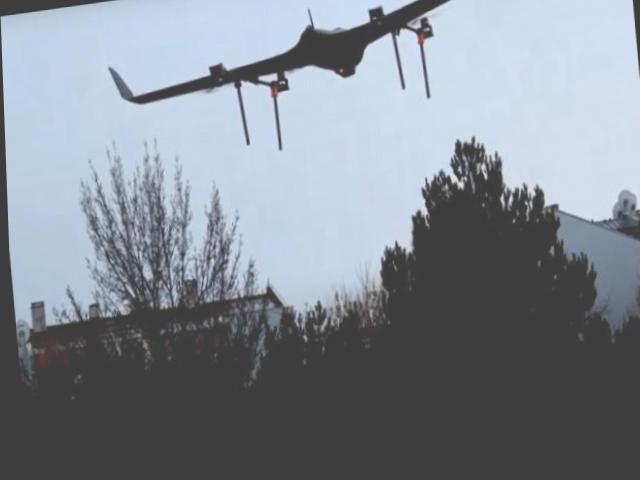iha: (100, 0, 533, 179)
